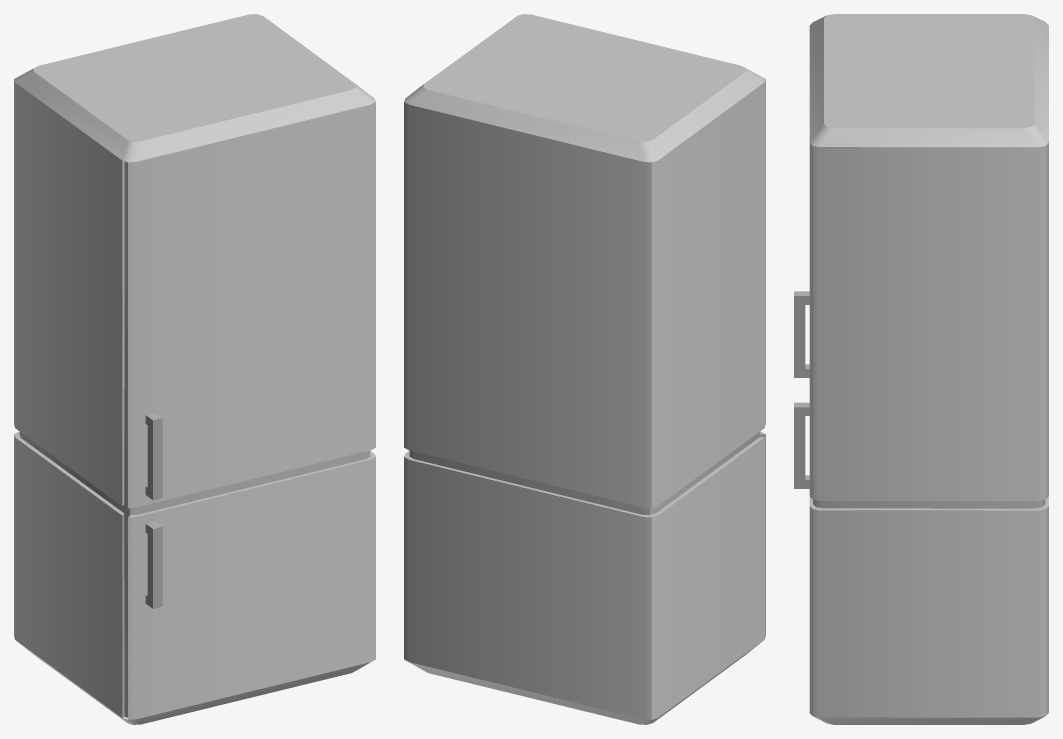
The model's file is Fridge.glb.
The picture shows the model from 3 angles, left to right: view 1: azimuth 30°, elevation 25°; view 2: azimuth 150°, elevation 25°; view 3: azimuth 270°, elevation 25°; orthographic projection. The views are drawn at different scales.
Parts seen in each view (by area): view 1: Fridge; view 2: Fridge; view 3: Fridge.
Boxes of the visible parts, x1,y1,x2,y2 form: Fridge: [14, 14, 375, 724]; Fridge: [404, 14, 765, 724]; Fridge: [794, 14, 1048, 724].
Bounding box in the file's own units: 1 × 2.2 × 0.8518.
1 material, 1 textured.
